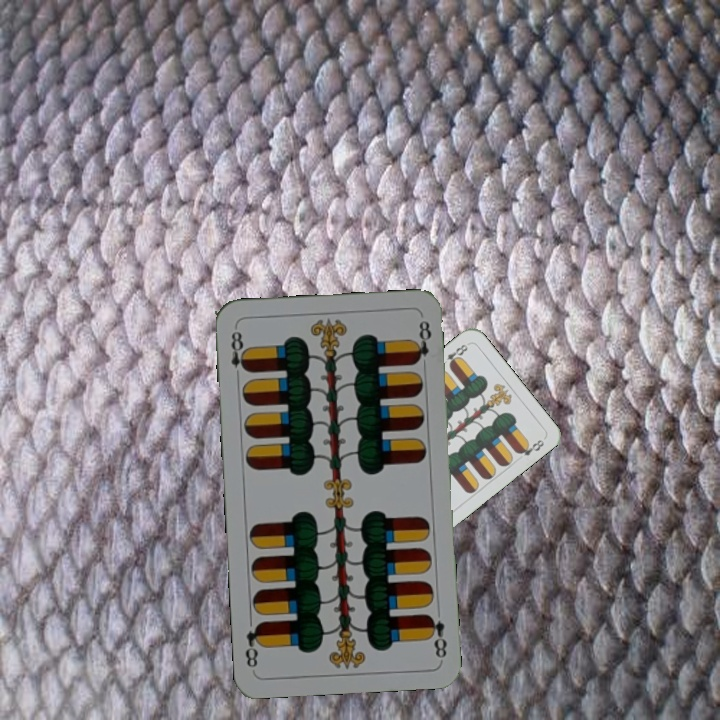E8: (423, 610, 450, 661), (227, 327, 251, 383), (442, 339, 471, 370)
